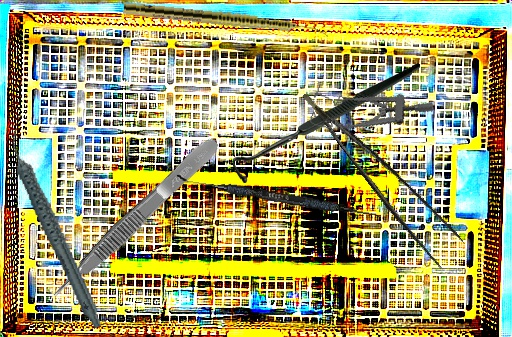Handpiece: (8, 120, 104, 337), (122, 1, 330, 39)
Hook Surgical: (231, 64, 422, 184)
Spatula Surgical: (175, 174, 381, 220)
Speculum: (306, 73, 436, 153)
Tissue Forceps: (302, 71, 471, 276), (45, 134, 224, 303)
